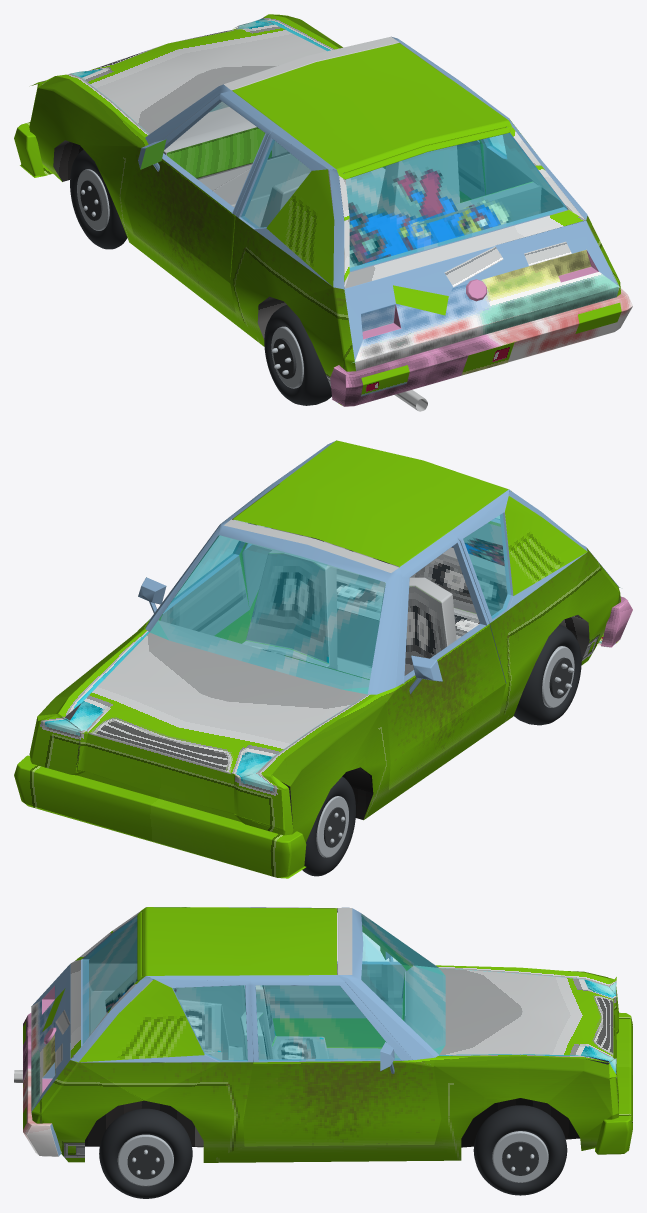
File: car-comic_v.glb
3 renders of one model, top to bottom at view 1: azimuth 30°, elevation 25°; view 2: azimuth 150°, elevation 25°; view 3: azimuth 270°, elevation 25°, orthographic. The views are drawn at different scales.
Parts seen in each view (by area): view 1: comic_vShape.001, comic_vShape.009, comic_vShape.002, TrunkRotShape.007, comic_vShape.005, HoodRotShape.007, DoorDRotShape.050, biclopsShape, TrunkRotShape.005, comic_vShape.006, comic_vShape.004, comic_vShape.008 (+11 smaller); view 2: comic_vShape.004, comic_vShape.008, comic_vShape.005, HoodRotShape.007, comic_vShape.002, comic_vShape.009, DoorDRotShape.050, comic_vShape.001, DoorPRotShape.057, comic_vShape.006, DoorDRotShape.049, Rounded tire.077 (+10 smaller); view 3: comic_vShape.003, DoorPRotShape.055, comic_vShape.005, HoodRotShape.007, comic_vShape.009, comic_vShape.001, comic_vShape.002, comic_vShape.008, DoorPRotShape.058, DoorDInnerShape.001, comic_vShape.004, comic_vShape.006 (+13 smaller).
Part boxes in pixels (box(x1,y1,x2,y2)): comic_vShape.001: box(145, 36, 632, 406); comic_vShape.009: box(232, 43, 511, 175); comic_vShape.002: box(29, 14, 620, 386); TrunkRotShape.007: box(346, 133, 566, 270); comic_vShape.005: box(163, 99, 563, 227); HoodRotShape.007: box(71, 21, 326, 134); DoorDRotShape.050: box(124, 146, 235, 312); biclopsShape: box(348, 167, 511, 267); TrunkRotShape.005: box(339, 127, 585, 288); comic_vShape.006: box(266, 118, 527, 286); comic_vShape.004: box(14, 14, 449, 177); comic_vShape.008: box(210, 102, 506, 228); comic_vShape.004: box(14, 484, 398, 878); comic_vShape.008: box(150, 513, 510, 693); comic_vShape.005: box(158, 503, 507, 689); HoodRotShape.007: box(70, 632, 367, 773); comic_vShape.002: box(30, 548, 620, 842); comic_vShape.009: box(232, 440, 508, 567); DoorDRotShape.050: box(386, 624, 505, 789); comic_vShape.001: box(71, 440, 632, 725); DoorPRotShape.057: box(159, 524, 255, 643); comic_vShape.006: box(505, 496, 587, 595); DoorDRotShape.049: box(395, 532, 489, 694); Rounded tire.077: box(513, 624, 581, 725); comic_vShape.003: box(145, 1056, 584, 1162); DoorPRotShape.055: box(243, 1060, 441, 1146); comic_vShape.005: box(78, 914, 445, 1062); HoodRotShape.007: box(439, 968, 613, 1061); comic_vShape.009: box(141, 907, 337, 979); comic_vShape.001: box(23, 907, 444, 1158); comic_vShape.002: box(31, 971, 618, 1162); comic_vShape.008: box(173, 914, 445, 1061); DoorPRotShape.058: box(256, 985, 400, 1060); DoorDInnerShape.001: box(267, 964, 412, 1047); comic_vShape.004: box(337, 908, 632, 1154); comic_vShape.006: box(79, 979, 204, 1062).
Bounding box in the file's own units: 2.6 × 1.9 × 5.16.
16 materials, 13 textured.
